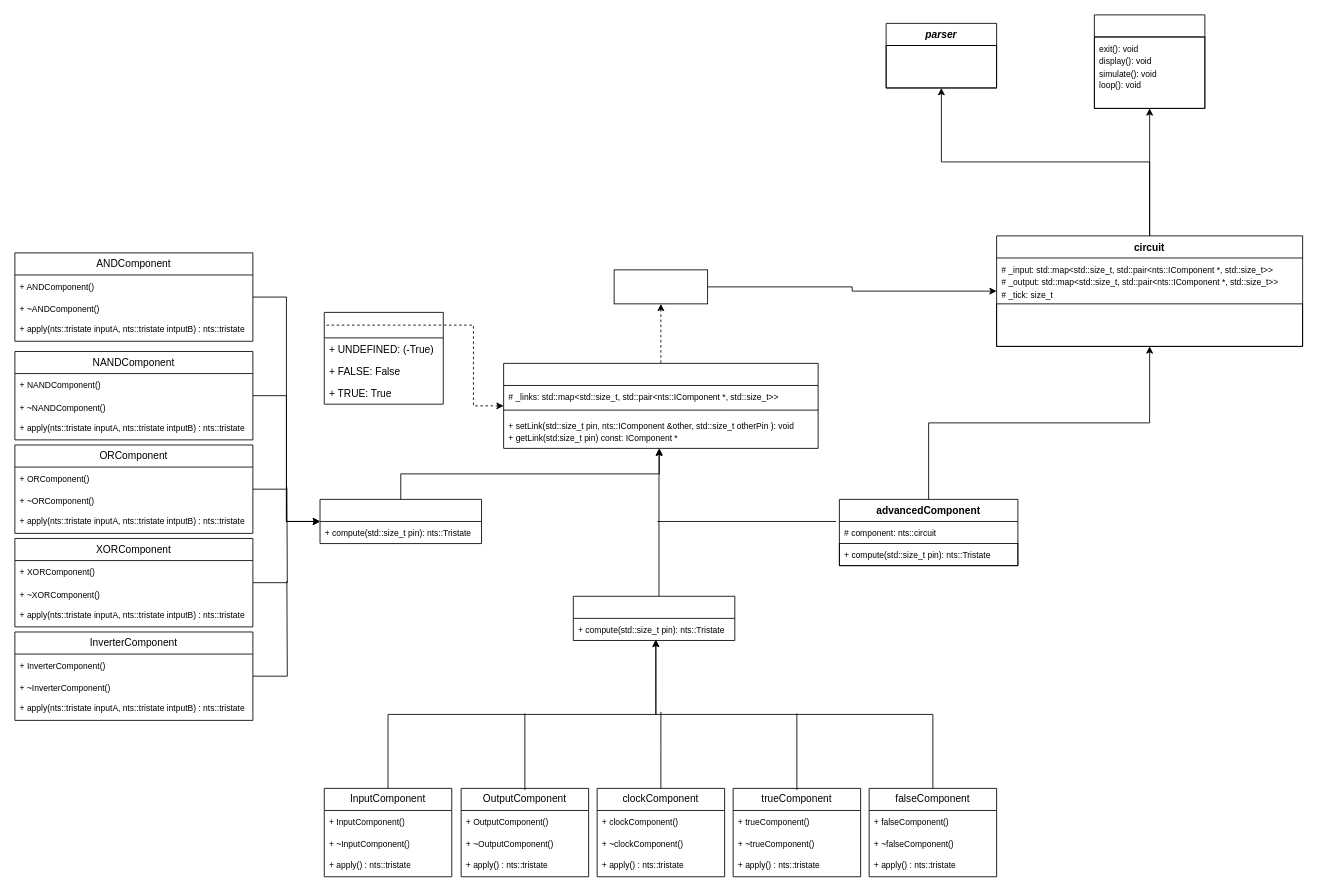
Image size: 1318x894. Some labels were removed from this diagram. Here are the shapes that lost their labels. From the top down, the box of each, then its label:
(885, 45, 997, 88): open(std::string): FILE * parse(FILE* file): circuit *
(1094, 14, 1205, 108): interpreter
(613, 269, 708, 304): «interface» IComponent
(996, 303, 1303, 346): + circuit(std::string file) + ~circuit() + std::string& operator=(std::string&)
(323, 312, 443, 404): <<Enum>> tristate
(503, 363, 818, 448): AComponent
(319, 499, 482, 544): simpleComponent
(572, 595, 735, 640): specialComponent
